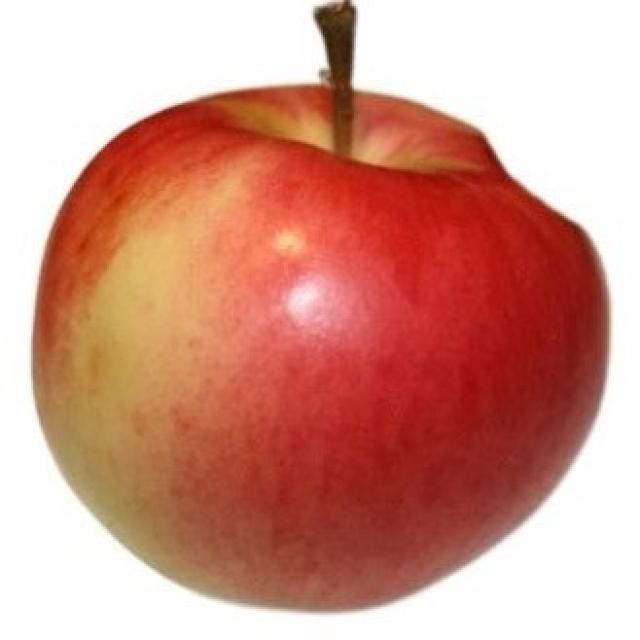75-_ripeness: (21, 74, 622, 608)
